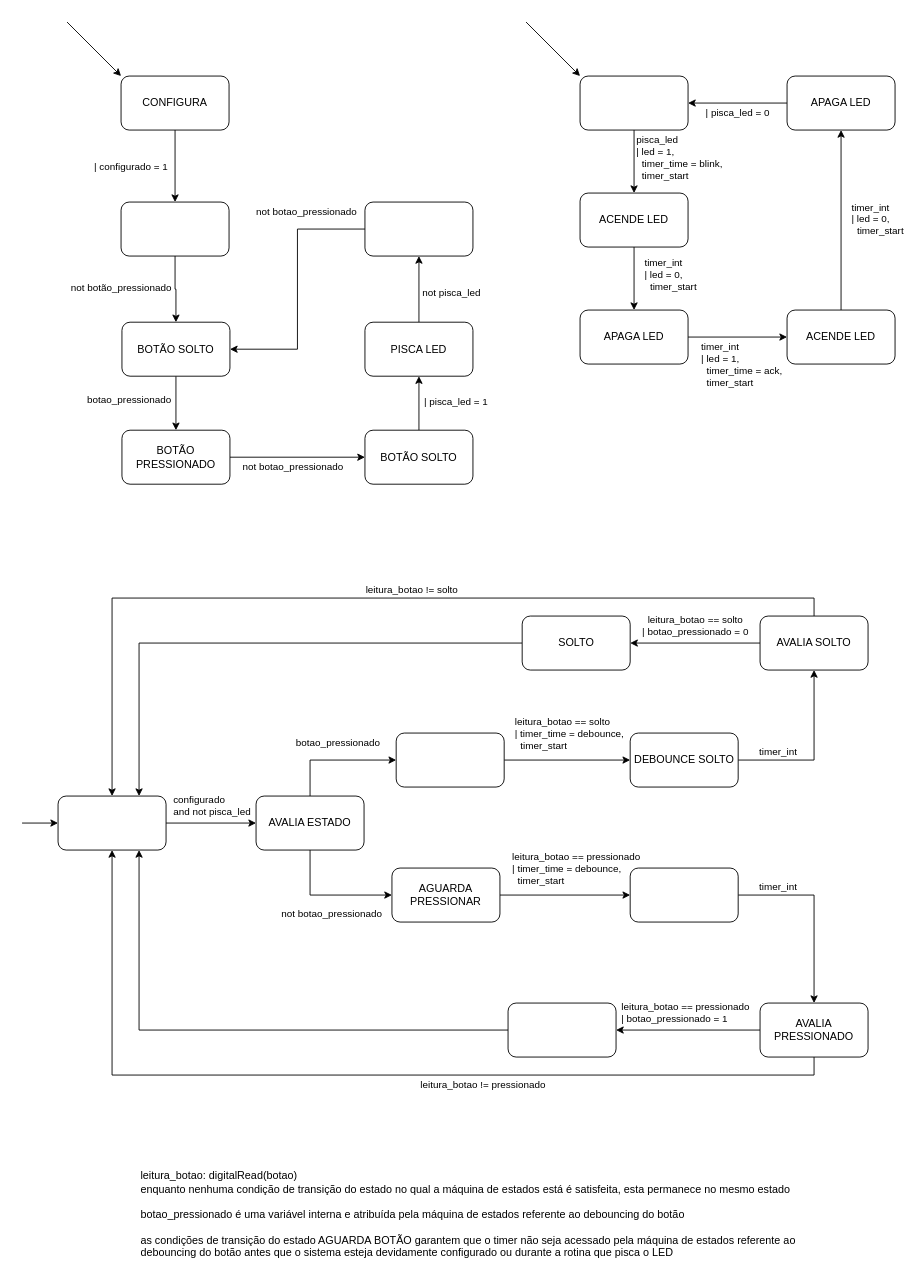
The diagram is 920 pixels wide and 1280 high, and some of its shapes have lost their labels. The centre of each missing label's shape, as x and y in pixels:
"AGUARDA BOTÃO" goes at point (111, 822).
"AGUARDA SINAL" goes at point (633, 102).
"AGUARDA SOLTAR" goes at point (449, 759).
"AGUARDA SOLTO" goes at point (418, 228).
"CONFIGURADO" goes at point (174, 228).
"DEBOUNCE PRESSIONADO" goes at point (683, 894).
"PRESSIONADO" goes at point (561, 1029).
